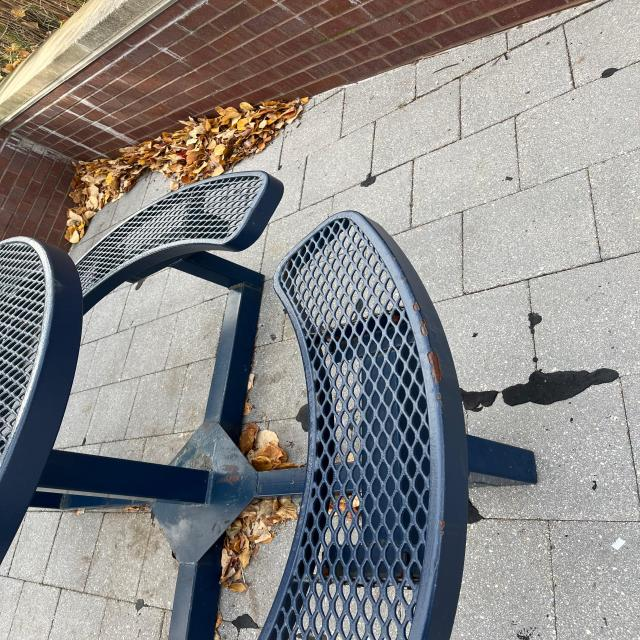Filiform Corrosion: (397, 299, 455, 399)
